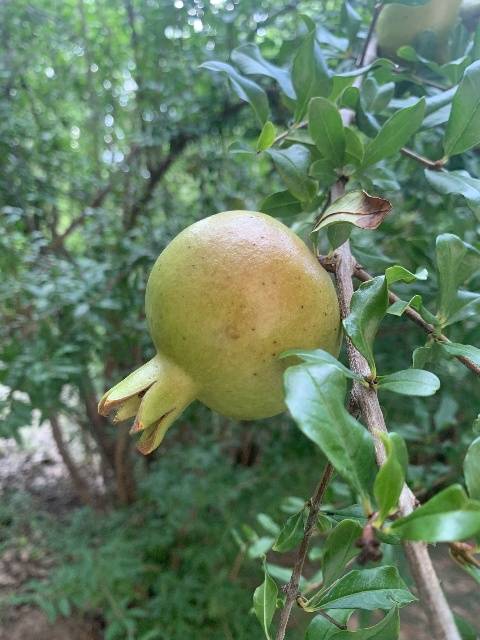mid-growth: (98, 209, 340, 458)
